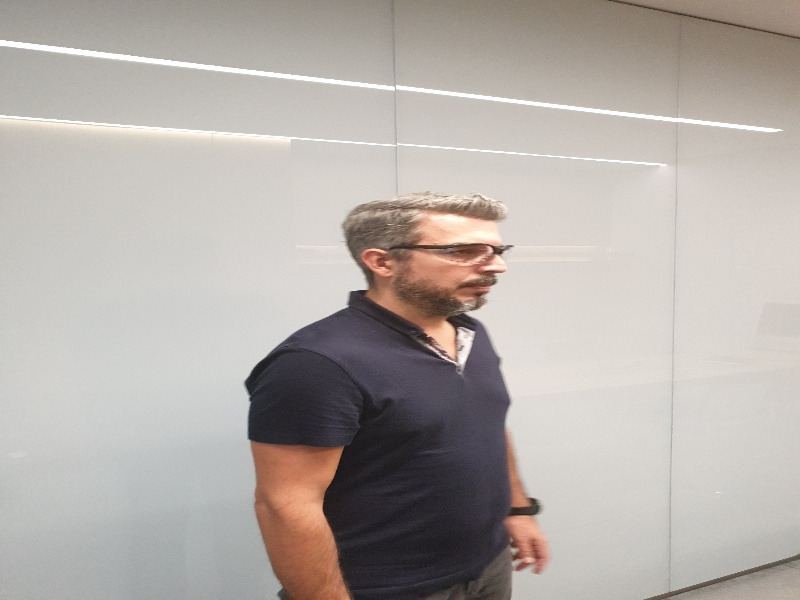Gozluk: (390, 241, 512, 263)
